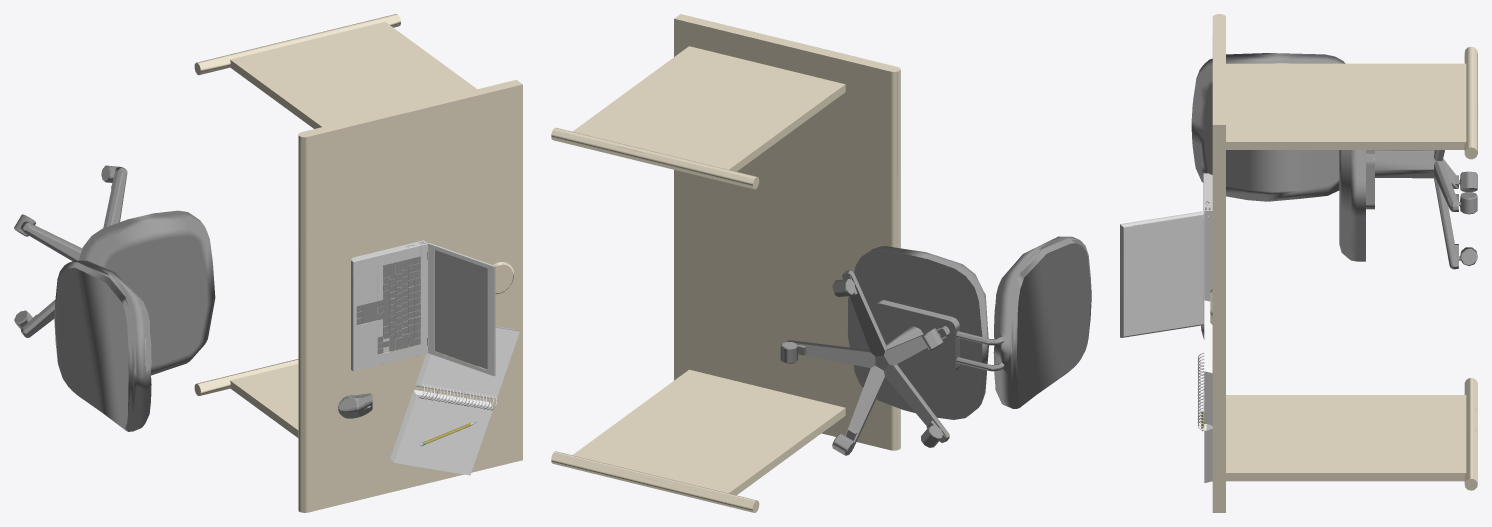
File: Student_Desk_Laptop.obj
3 views of the same model, side by side, from view 1: azimuth 30°, elevation 25°; view 2: azimuth 150°, elevation 25°; view 3: azimuth 270°, elevation 25° (orthographic). The views are drawn at different scales.
Visible parts, largest first — view 1: Solid1; view 2: Solid1; view 3: Solid1.
Part boxes in pixels (left/top/right/bottom): Solid1: left=14, top=14, right=522, bottom=512; Solid1: left=551, top=14, right=1091, bottom=512; Solid1: left=1120, top=14, right=1477, bottom=512.
Bounding box in the file's own units: 1.36 × 1.22 × 1.02.
